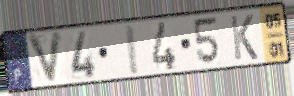4: (150, 20, 178, 72), (69, 30, 97, 80)
5: (191, 17, 222, 67)
I: (124, 23, 142, 77)
K: (228, 13, 260, 62)
V: (25, 28, 65, 88)
